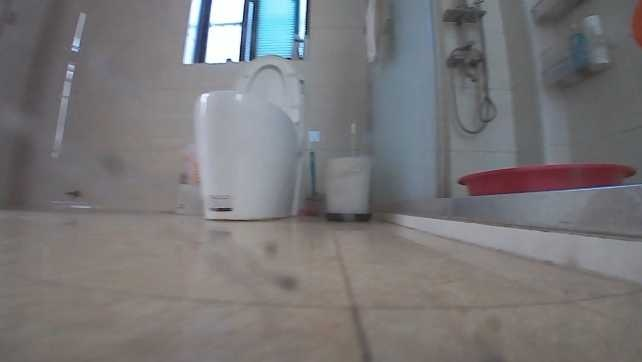toilet: (188, 52, 313, 223)
trash_can: (321, 151, 373, 220)
